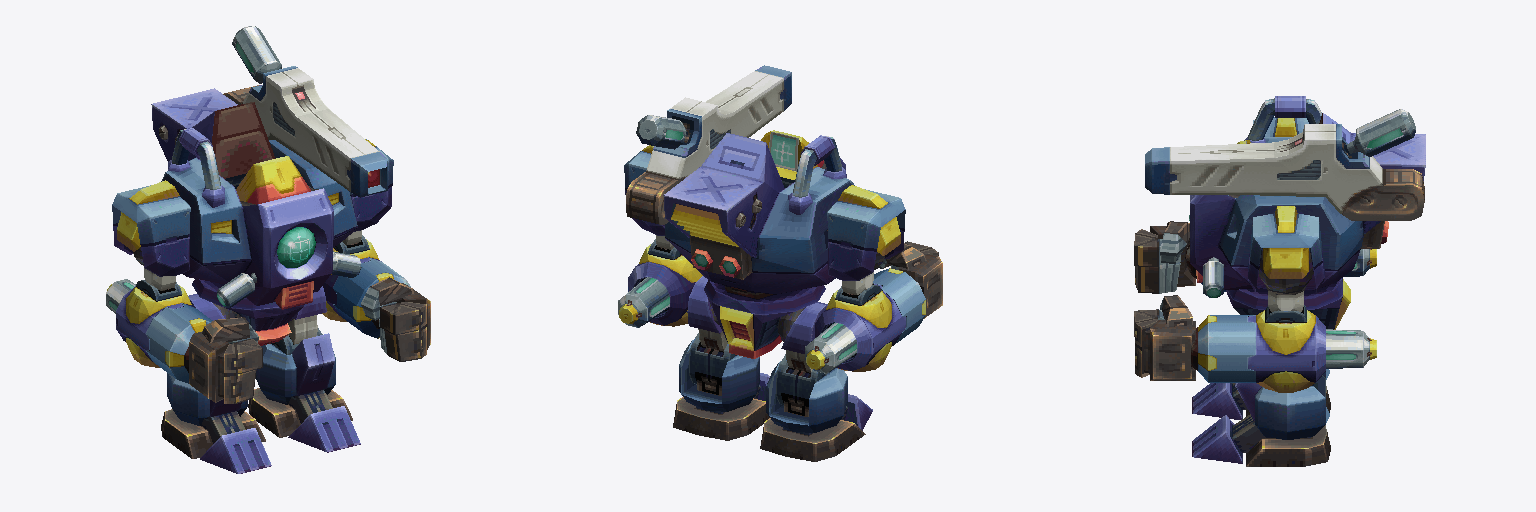
3 views of the same model, side by side, from view 1: azimuth 30°, elevation 25°; view 2: azimuth 150°, elevation 25°; view 3: azimuth 270°, elevation 25° (orthographic).
Parts seen in each view (by area): view 1: submesh0; view 2: submesh0; view 3: submesh0.
Boxes of the visible parts, x1,y1,x2,y2 form: submesh0: [106, 26, 430, 473]; submesh0: [618, 65, 942, 461]; submesh0: [1134, 96, 1425, 466].
Size of the model in its own units: 24.43 by 31.05 by 23.96.
1 materials, 1 textured.